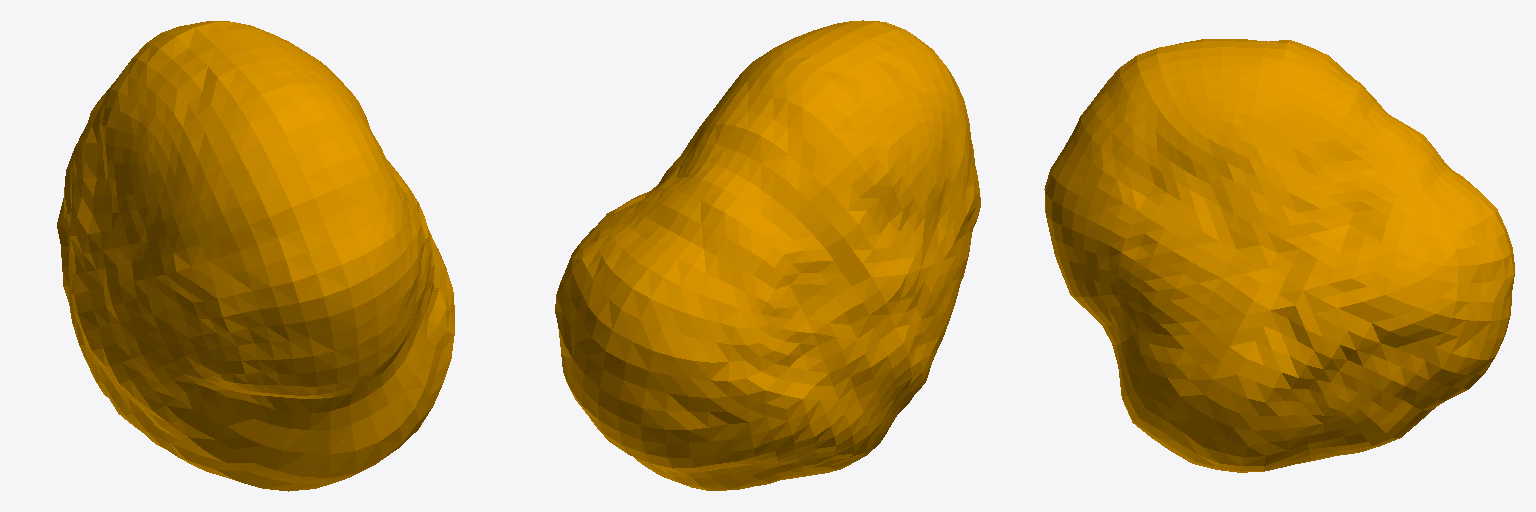
URDF robot description (rock):
<?xml version="1.0" ?>
<robot name="rock">
  <link name="rock">
    <inertial>
      <mass value="0.234"/>
      <origin rpy="0 0 0" xyz="0 0 0"/>
      <inertia ixx="0.000234" ixy="0" ixz="0" iyy="0.000234" iyz="0" izz="0.000234"/>
    </inertial>
    <collision name="rock_collision">
      <origin rpy="0 0 0" xyz="0 0 0"/>
      <geometry>
        <mesh filename="package://rocks/visual/151.dae" scale="1 1 1"/>
      </geometry>
    </collision>
    <visual name="rock_visual">
      <origin rpy="0 0 0" xyz="0 0 0"/>
      <geometry>
        <mesh filename="package://rocks/visual/151.dae" scale="1 1 1"/>
      </geometry>
    </visual>
  </link>
</robot>

--- What the picture shows (computed from the rendered views, not written in the file) ---
3 views of the same robot in one strip: view 1: azimuth 30°, elevation 25°; view 2: azimuth 150°, elevation 25°; view 3: azimuth 270°, elevation 25° (orthographic).
Robot: rock — 1 links, 0 joints (none); root link rock; default pose: every joint at zero.
Visible links, largest first — view 1: rock; view 2: rock; view 3: rock.
Link boxes in pixels (x1=…): rock: x1=57, y1=21, x2=454, y2=491; rock: x1=555, y1=20, x2=980, y2=490; rock: x1=1044, y1=39, x2=1514, y2=472.
Bounding box of the posed robot: 0.062 × 0.0879 × 0.0806 m (x, y, z).
Meshes: 1 distinct files referenced, 1 mesh visuals loaded (1 Collada DAE).